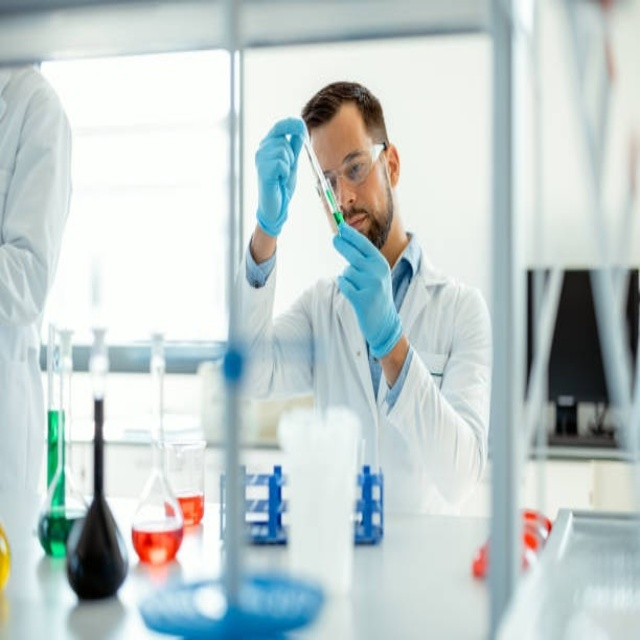Gafas: (472, 509, 553, 580), (315, 141, 388, 203)
Guantes: (332, 223, 402, 359), (254, 117, 308, 237)
Sin_mascara: (348, 214, 367, 226)
